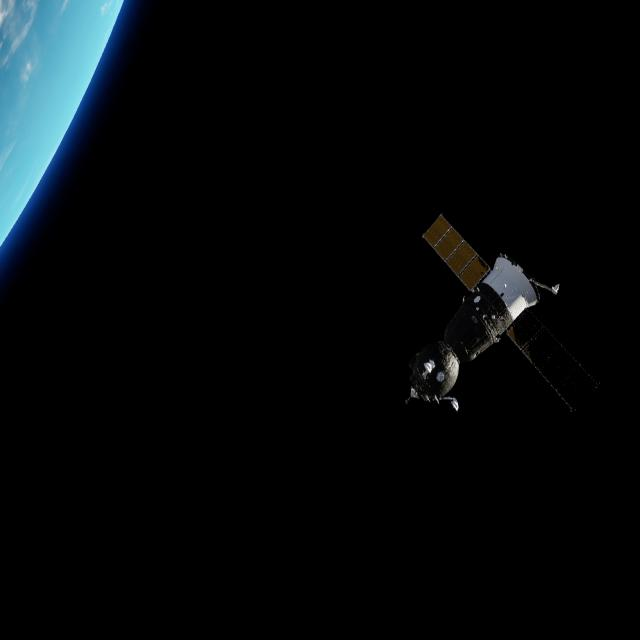Satellites revolving around earth: (404, 211, 598, 417)
